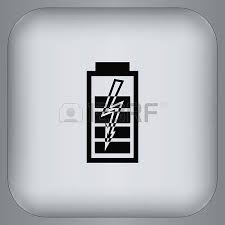charging sign: (70, 48, 158, 173)
